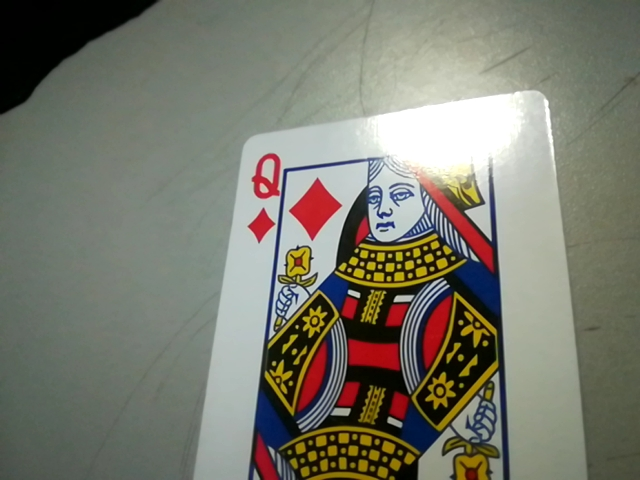fk q: (236, 146, 290, 242)
